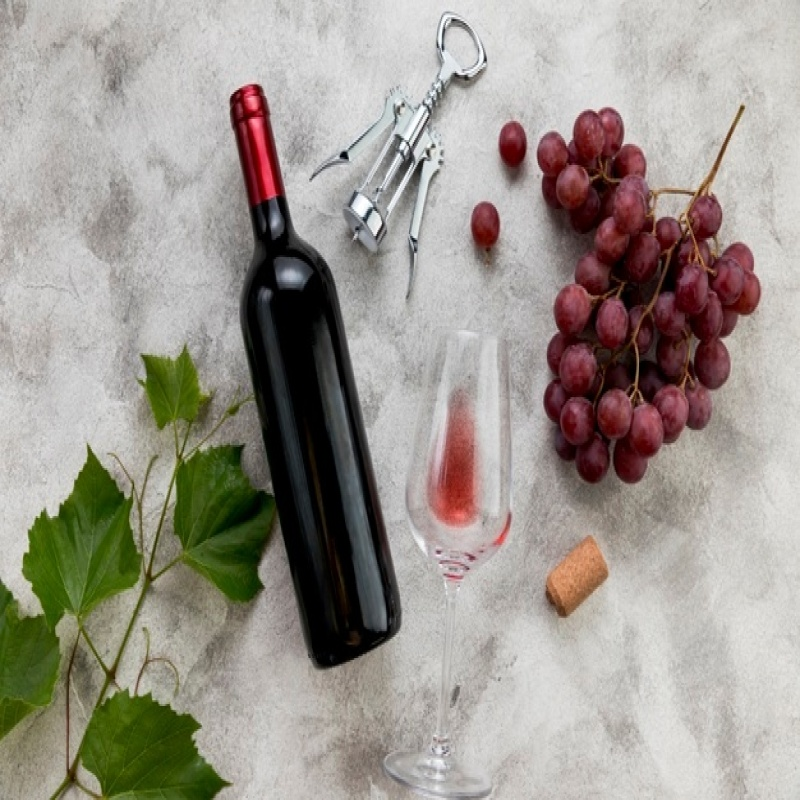wine: (223, 85, 408, 676)
